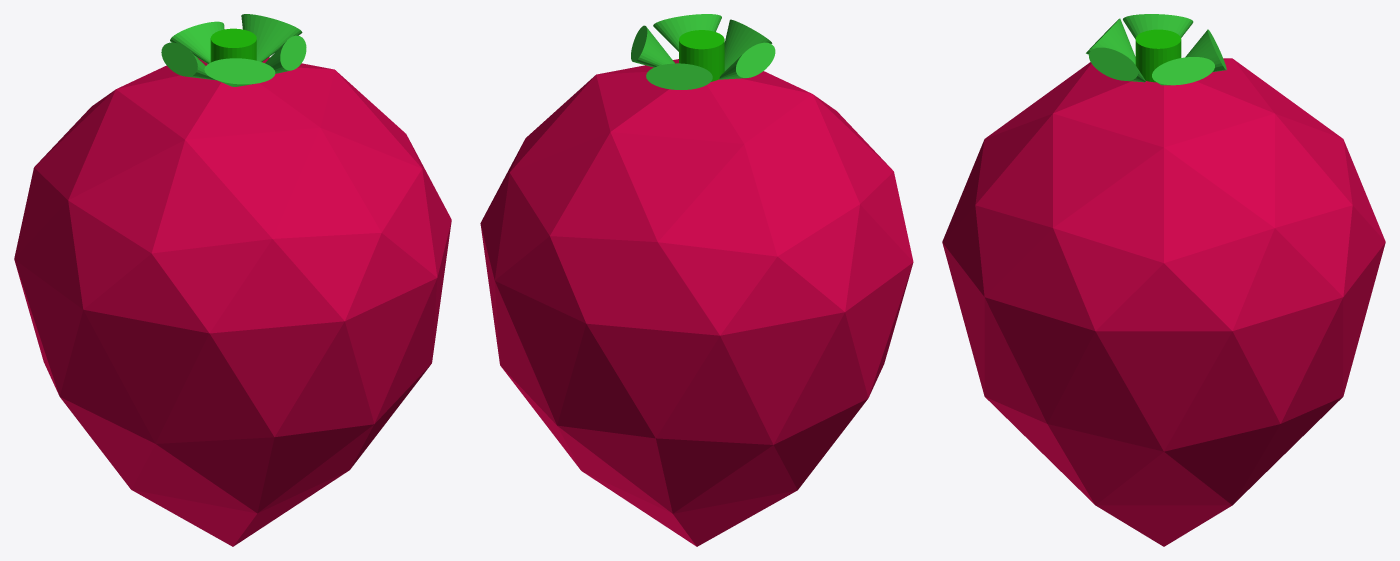
File: fresa.fbx
3 renders of one model, left to right at view 1: azimuth 30°, elevation 25°; view 2: azimuth 150°, elevation 25°; view 3: azimuth 270°, elevation 25°, orthographic.
Visible parts, largest first — view 1: Icosphere, Cone.002, Cone.003, Icosphere.001, Cone.004, Cone.001, Cone; view 2: Icosphere, Icosphere.001, Cone.004, Cone, Cone.001, Cone.002, Cone.003; view 3: Icosphere, Icosphere.001, Cone.003, Cone, Cone.001, Cone.002, Cone.004.
Part boxes in pixels (<box>): Icosphere: <box>14,57,451,546</box>; Cone.002: <box>204,58,275,86</box>; Cone.003: <box>241,14,302,61</box>; Icosphere.001: <box>210,28,256,62</box>; Cone.004: <box>170,21,224,63</box>; Cone.001: <box>161,42,216,80</box>; Cone: <box>265,35,306,73</box>; Icosphere: <box>480,59,913,546</box>; Icosphere.001: <box>679,30,724,81</box>; Cone.004: <box>646,63,712,89</box>; Cone: <box>653,14,721,51</box>; Cone.001: <box>719,42,775,79</box>; Cone.002: <box>724,19,772,71</box>; Cone.003: <box>631,25,674,67</box>; Icosphere: <box>942,58,1385,546</box>; Icosphere.001: <box>1135,29,1181,82</box>; Cone.003: <box>1152,57,1214,85</box>; Cone: <box>1088,47,1145,82</box>; Cone.001: <box>1123,14,1193,39</box>; Cone.002: <box>1086,18,1135,64</box>; Cone.004: <box>1185,29,1226,72</box>.
Bounding box in the file's own units: 47.55 × 63.34 × 50.
